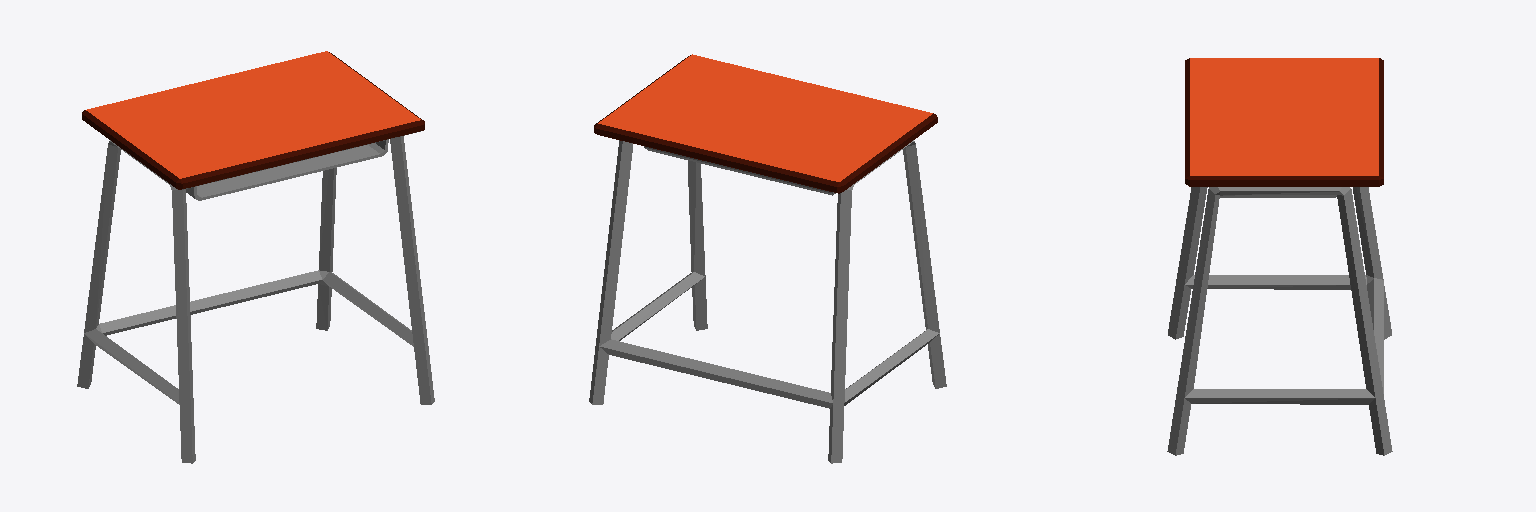
File: table.obj
3 renders of one model, left to right at view 1: azimuth 30°, elevation 25°; view 2: azimuth 150°, elevation 25°; view 3: azimuth 270°, elevation 25°, orthographic.
Parts seen in each view (by area): view 1: table4; view 2: table4; view 3: table4.
Part boxes in pixels (bbox=[...]): table4: bbox=[77, 51, 434, 463]; table4: bbox=[589, 54, 946, 463]; table4: bbox=[1167, 58, 1392, 455].
Bounding box in the file's own units: 0.4373 × 0.46 × 0.3367.